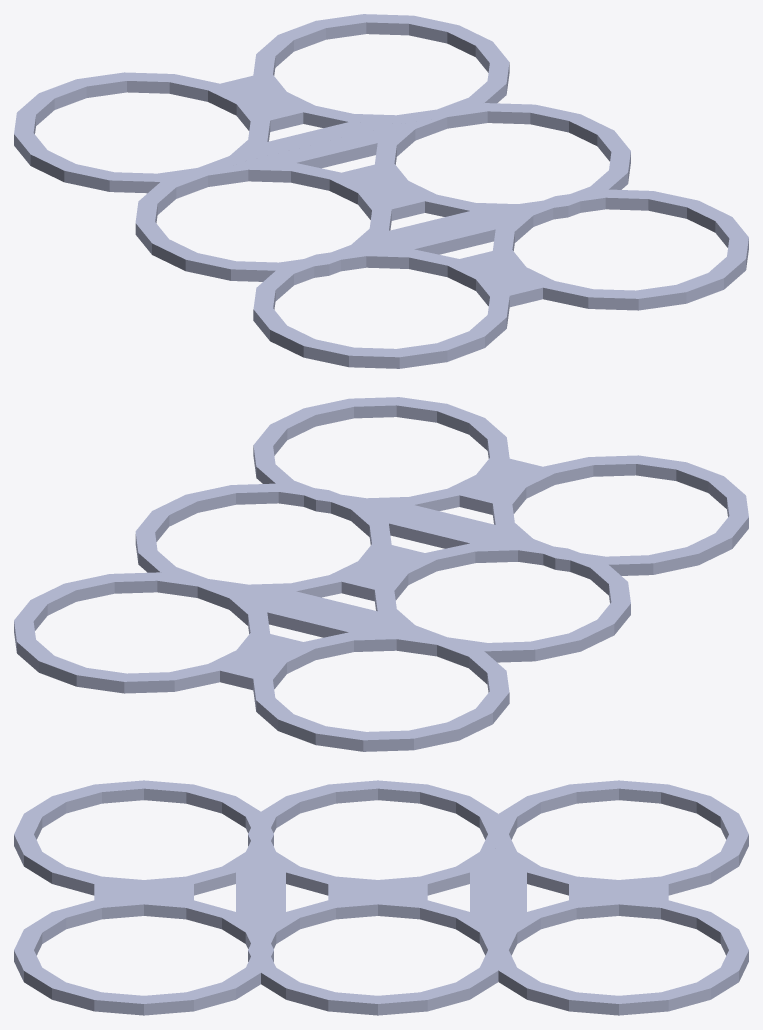
The model's file is SixPackRings.glb.
The picture shows the model from 3 angles, top to bottom: view 1: azimuth 30°, elevation 25°; view 2: azimuth 150°, elevation 25°; view 3: azimuth 270°, elevation 25°; orthographic projection.
Parts seen in each view (by area): view 1: Circle; view 2: Circle; view 3: Circle.
Boxes of the visible parts, x1,y1,x2,y2 form: Circle: [14, 14, 748, 368]; Circle: [14, 397, 748, 751]; Circle: [14, 780, 748, 1015].
Bounding box in the file's own units: 0.8331 × 0.02 × 1.16.
